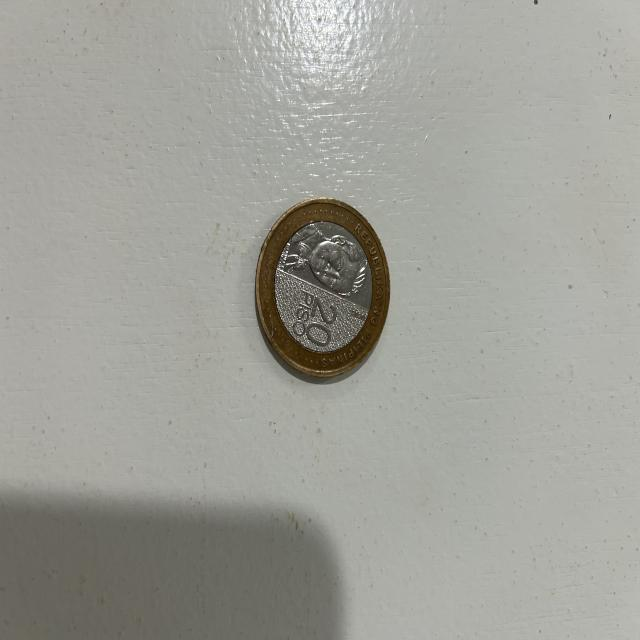20_New_Front: (283, 282, 345, 368)
